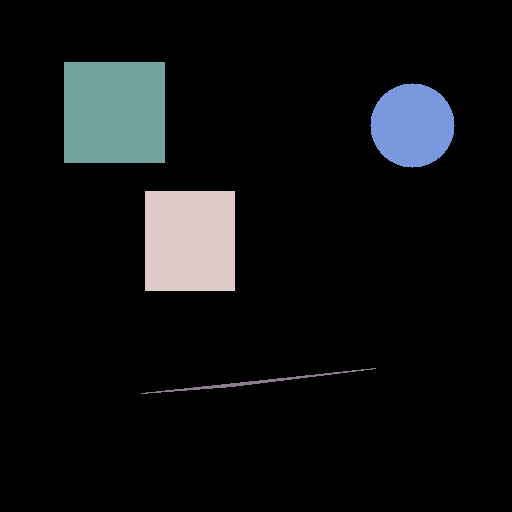circle: (370, 83, 454, 167)
square: (64, 62, 164, 162), (145, 191, 234, 290)
